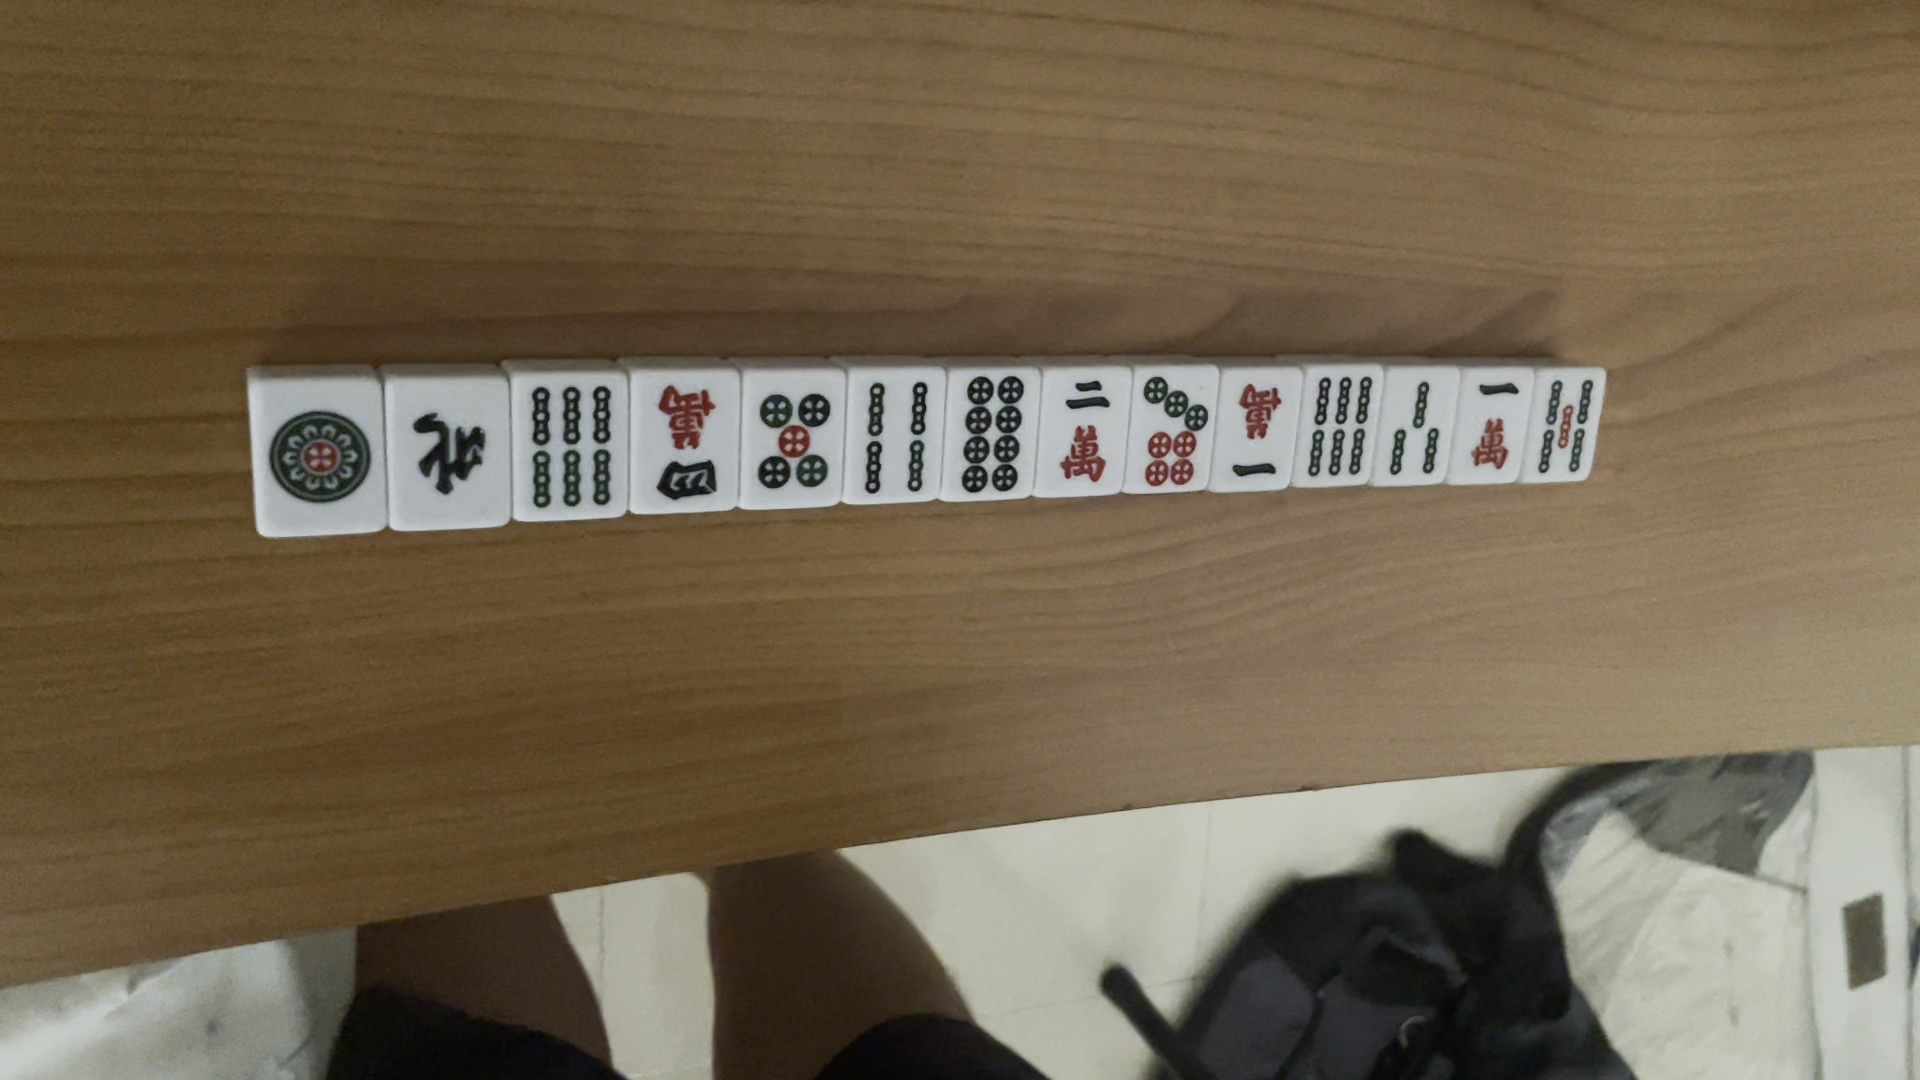b-3: (1386, 377, 1443, 483)
b-4: (862, 377, 934, 496)
b-5: (1535, 376, 1597, 479)
b-6: (520, 382, 618, 516), (1305, 371, 1371, 476)
c-1: (1218, 378, 1286, 479), (1474, 377, 1520, 479)
c-2: (1048, 373, 1120, 488)
c-4: (647, 378, 727, 502)
d-1: (262, 400, 378, 512)
d-5: (752, 392, 831, 493)
d-7: (1139, 367, 1211, 491)
d-8: (955, 373, 1031, 495)
honors-north: (409, 398, 495, 502)
